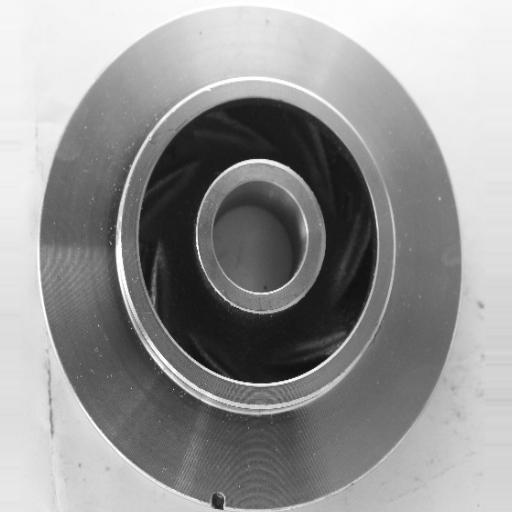pit: (202, 484, 239, 512)
unpolished_casting: (39, 4, 464, 511)
